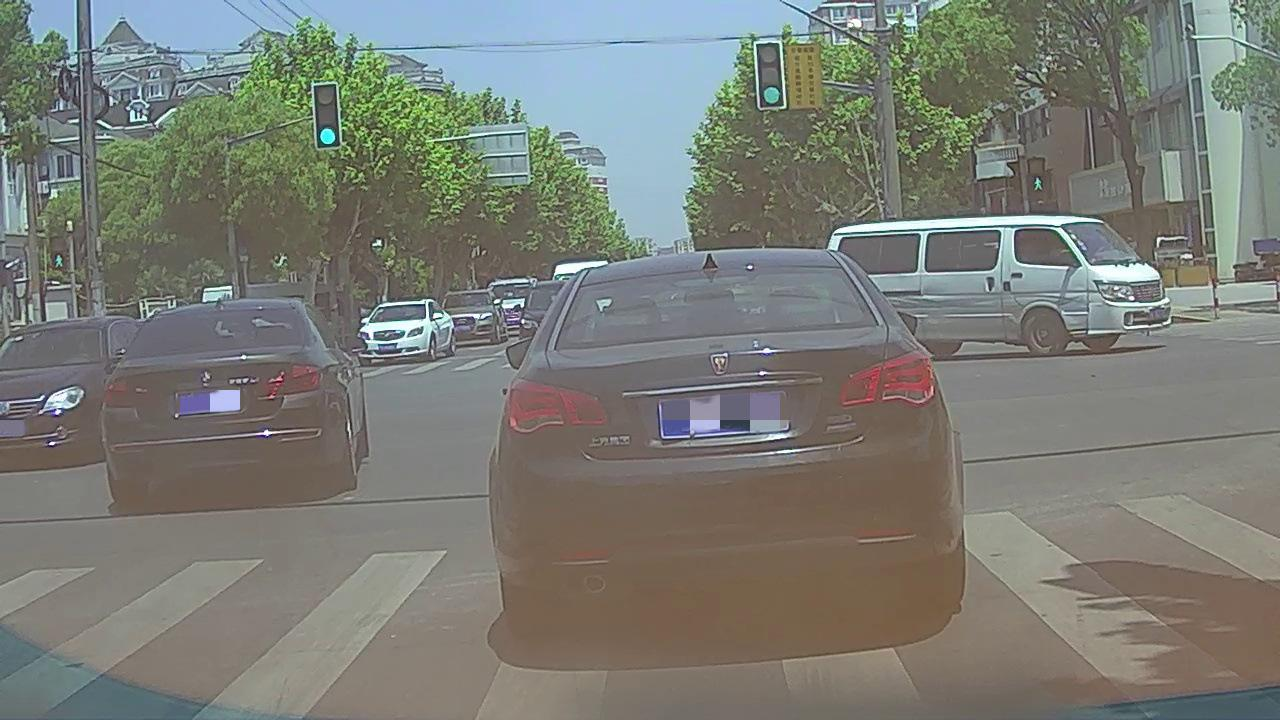traffic_light: (756, 41, 784, 108), (315, 84, 339, 146)
